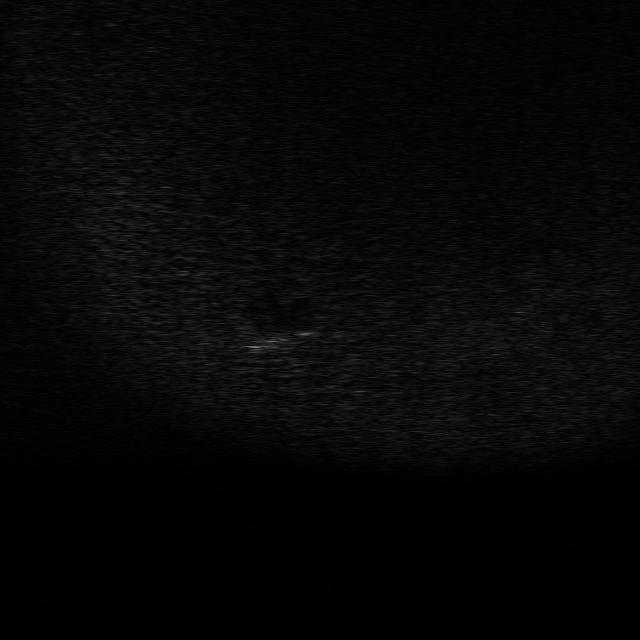plane: (232, 322, 316, 360)
